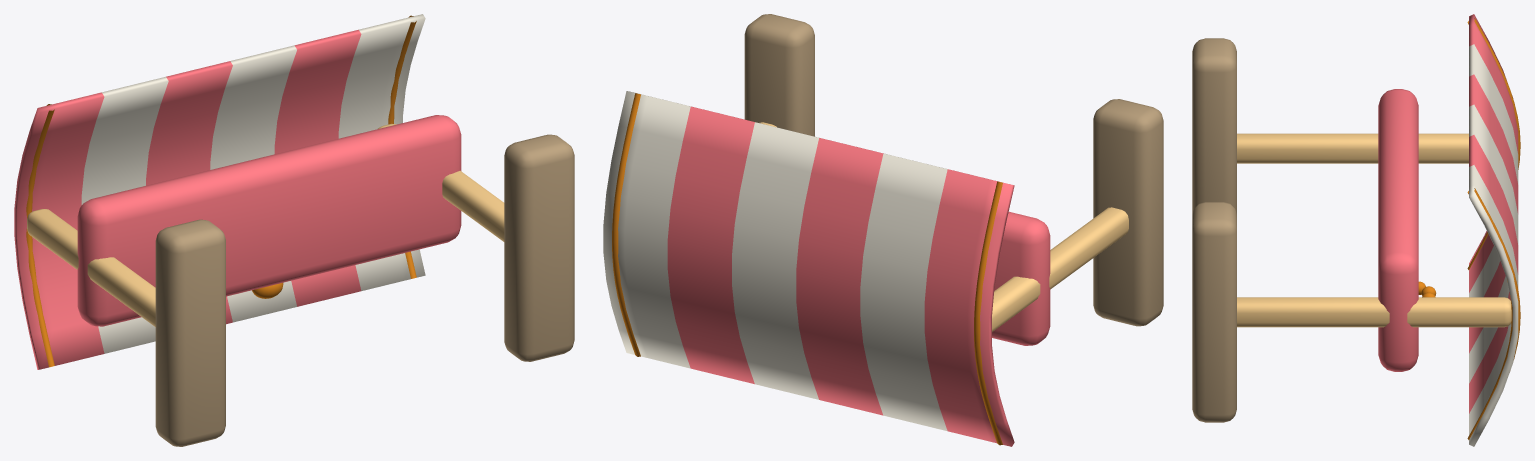
Rendered from RunnerNapCanopy.fbx.
The picture shows the model from 3 angles, left to right: view 1: azimuth 30°, elevation 25°; view 2: azimuth 150°, elevation 25°; view 3: azimuth 270°, elevation 25°; orthographic projection. The views are drawn at different scales.
Visible parts, largest first — view 1: RunnerNapCanopy; view 2: RunnerNapCanopy; view 3: RunnerNapCanopy.
Part boxes in pixels (box(x1,y1,x2,y2)): RunnerNapCanopy: box(14, 14, 574, 446); RunnerNapCanopy: box(603, 14, 1163, 446); RunnerNapCanopy: box(1192, 14, 1520, 446).
Bounding box in the file's own units: 1.21 × 0.7509 × 0.882.
